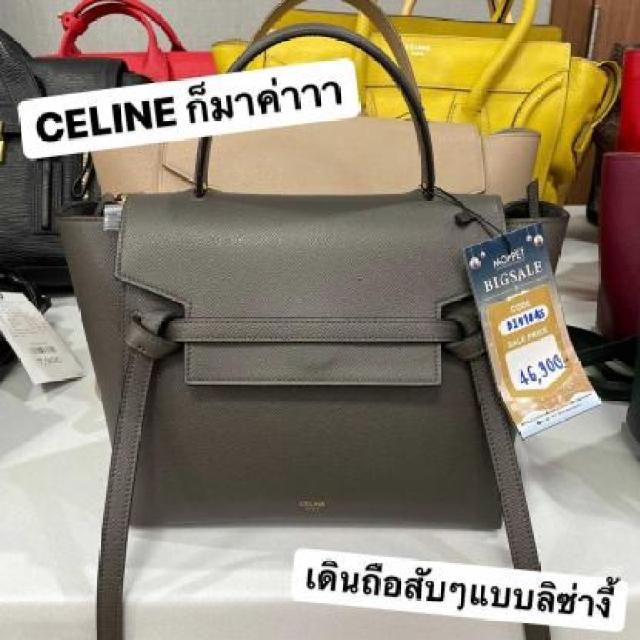Bag: (32, 0, 596, 640)
